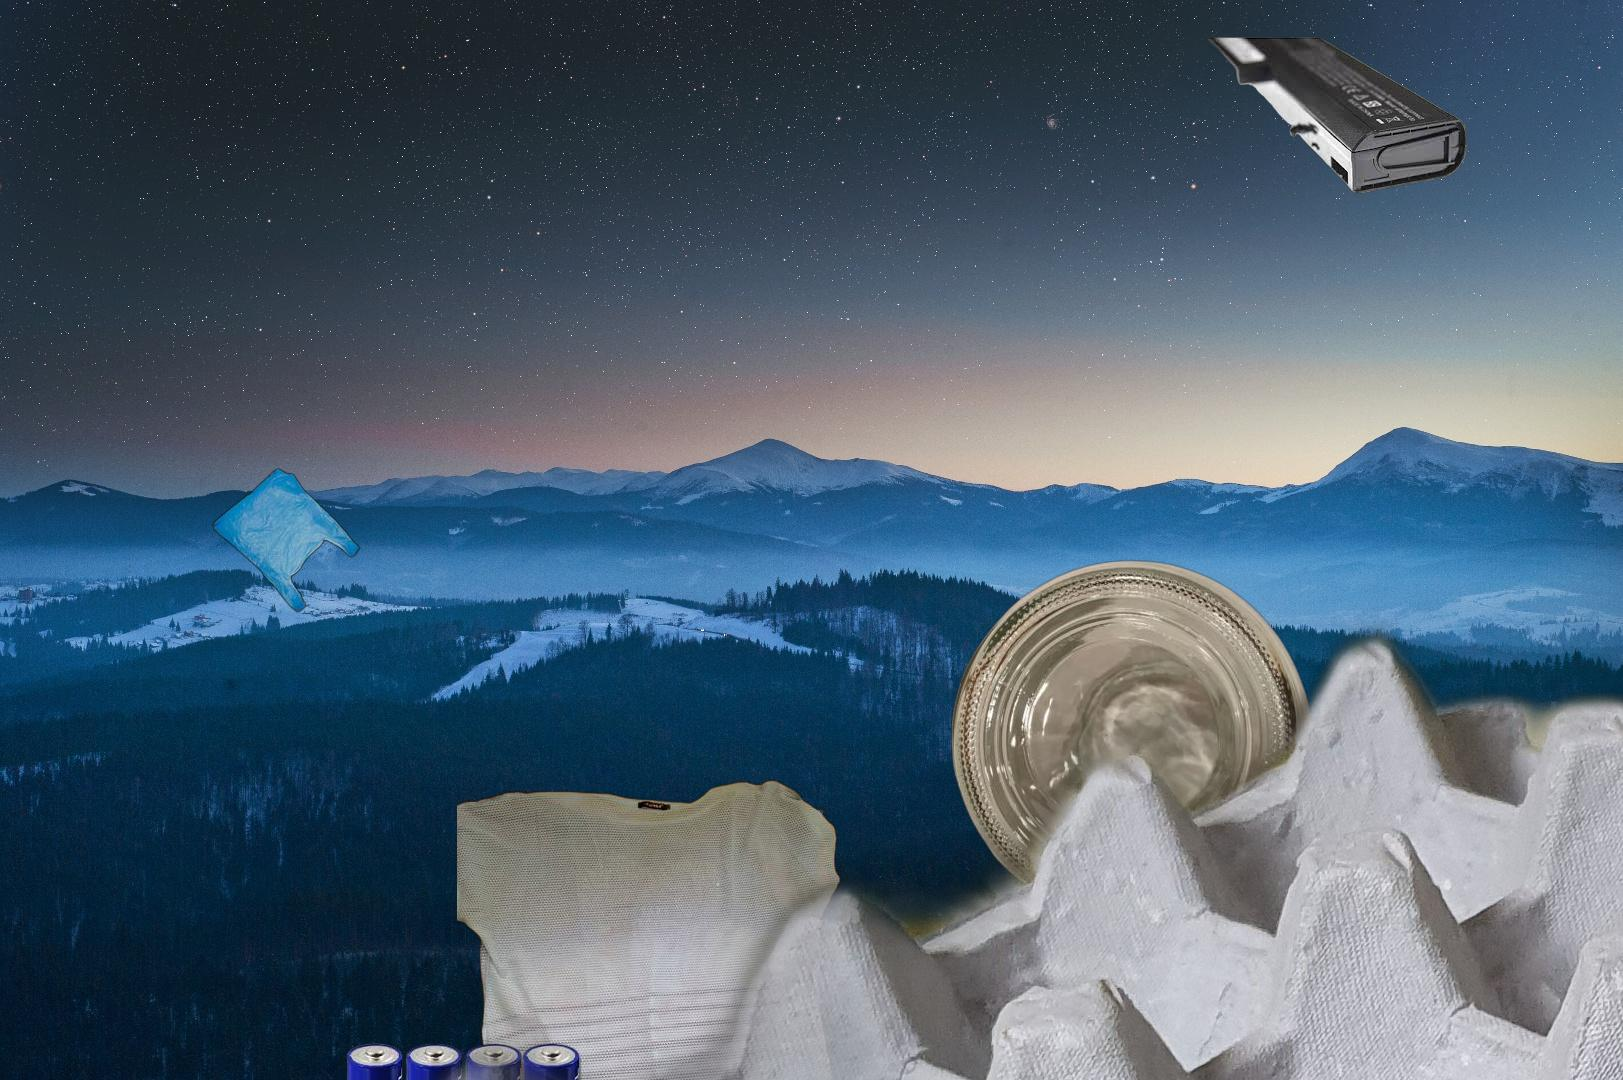battery: (1209, 34, 1468, 196), (345, 1041, 582, 1080)
clothes: (457, 695, 849, 1080)
glass: (948, 558, 1318, 925)
plastic-bag: (211, 466, 361, 614)
plastic-bottles: (1070, 700, 1195, 812)
trashbox-cardboard: (176, 606, 1623, 1080)
